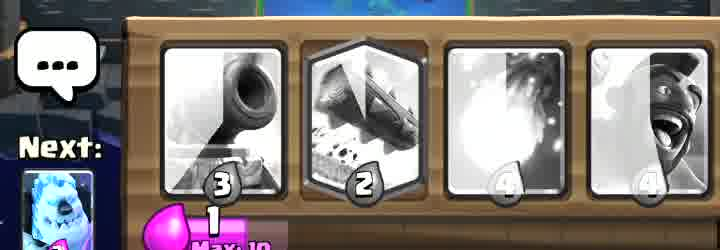ice-golem: (25, 171, 92, 249)
